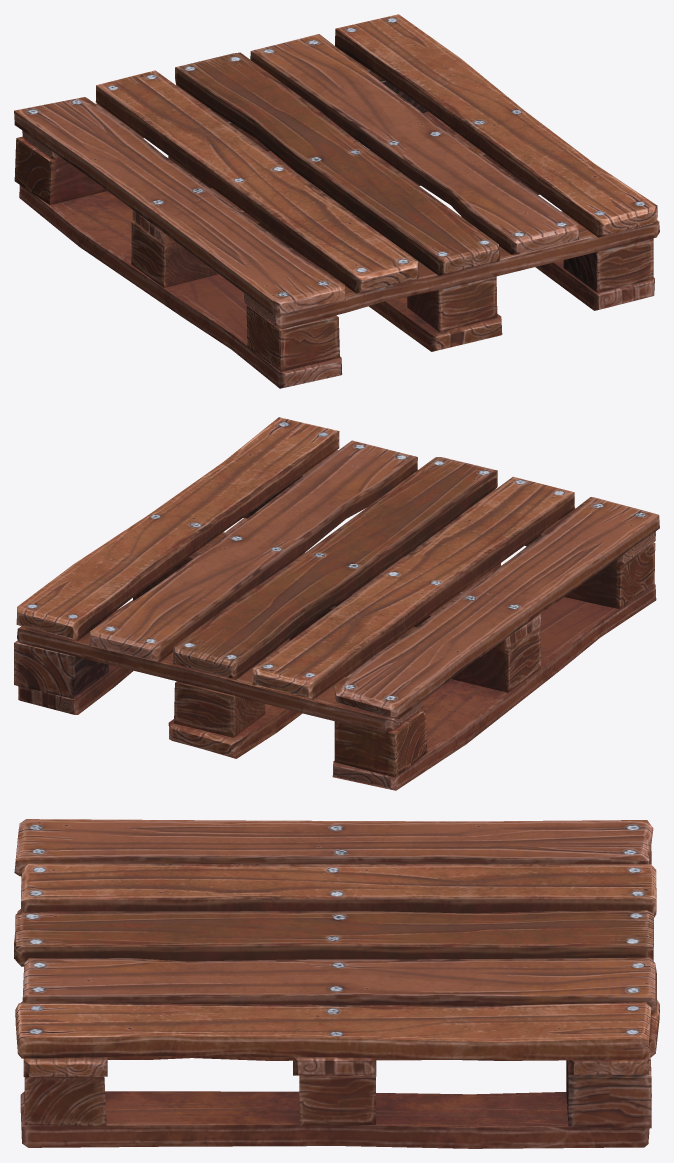
Rendered from wooden_stylized_pallet.glb.
3 views of the same model, one above another, from view 1: azimuth 30°, elevation 25°; view 2: azimuth 150°, elevation 25°; view 3: azimuth 270°, elevation 25° (orthographic). The views are drawn at different scales.
Parts seen in each view (by area): view 1: Pallet; view 2: Pallet; view 3: Pallet.
Part boxes in pixels (x1,y1,x2,y2): Pallet: (14, 14, 659, 388); Pallet: (14, 417, 659, 790); Pallet: (14, 819, 659, 1148).
Bounding box in the file's own units: 0.8536 × 0.1963 × 1.03.
Materials: 1 (1 with a texture image).
